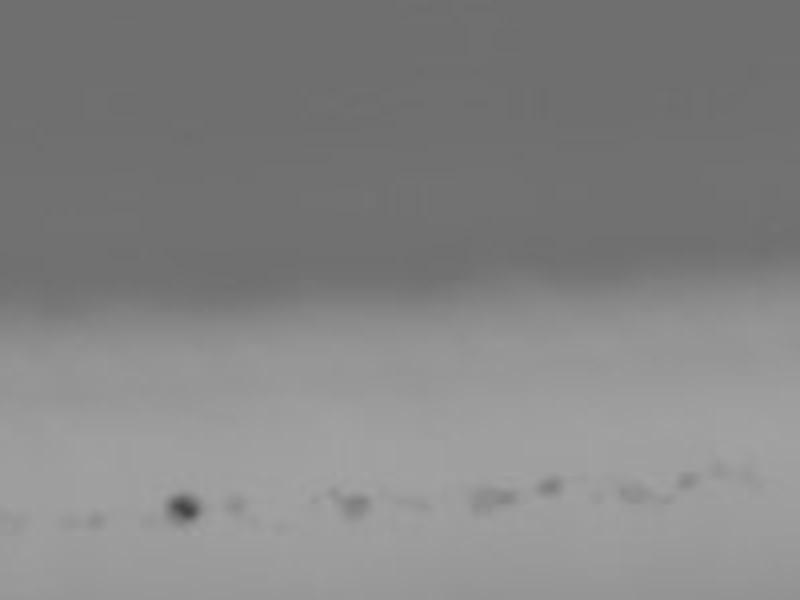defect: (473, 485, 521, 521), (161, 492, 202, 528), (340, 492, 374, 531), (389, 493, 436, 518), (621, 480, 659, 507), (537, 473, 564, 502), (3, 510, 27, 541), (225, 492, 253, 516), (84, 510, 108, 534), (673, 469, 697, 492), (709, 460, 733, 482), (60, 509, 83, 531), (657, 491, 677, 509), (319, 482, 340, 499), (136, 512, 153, 530), (587, 492, 605, 508), (271, 519, 288, 534)
